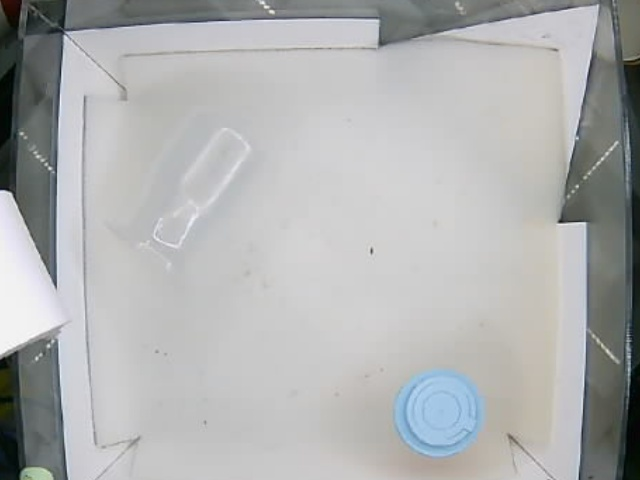Bottle: (107, 116, 258, 270)
Cup: (389, 367, 486, 455)
